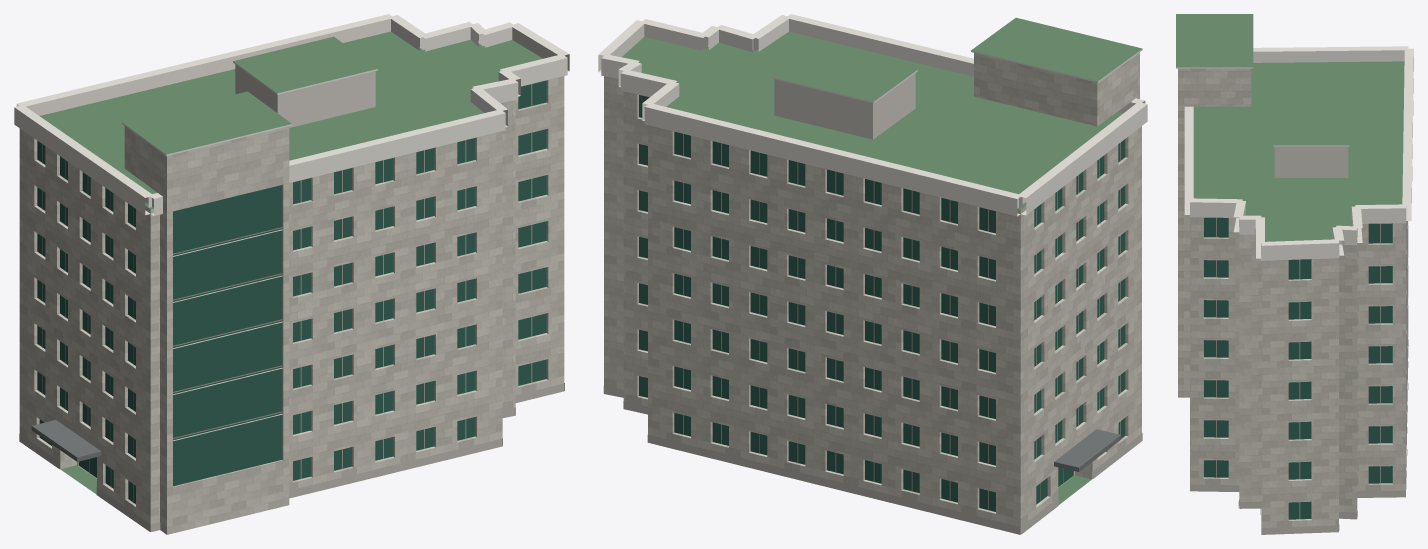
The picture shows the model from 3 angles, left to right: view 1: azimuth 30°, elevation 25°; view 2: azimuth 150°, elevation 25°; view 3: azimuth 270°, elevation 25°; orthographic projection. The views are drawn at different scales.
Visible parts, largest first — view 1: law1__wall, law1__glass, law1__roof, law1__trim, law1__wall2, law1__base, law1__frame, law1__canopy; view 2: law1__wall, law1__roof, law1__glass, law1__trim, law1__wall2, law1__base, law1__frame, law1__canopy; view 3: law1__wall, law1__roof, law1__trim, law1__glass, law1__wall2, law1__base, law1__frame.
Boxes of the visible parts, <box> form: law1__wall: <box>19,76,564,534</box>; law1__glass: <box>37,80,546,503</box>; law1__roof: <box>40,31,542,494</box>; law1__trim: <box>14,14,569,215</box>; law1__wall2: <box>235,64,375,127</box>; law1__base: <box>19,383,564,531</box>; law1__frame: <box>42,84,532,502</box>; law1__canopy: <box>31,420,101,461</box>; law1__wall: <box>604,52,1141,534</box>; law1__roof: <box>622,17,1142,504</box>; law1__glass: <box>639,95,1125,511</box>; law1__trim: <box>598,14,1147,216</box>; law1__wall2: <box>774,73,915,139</box>; law1__base: <box>603,386,1142,534</box>; law1__frame: <box>683,134,1120,510</box>; law1__canopy: <box>1054,429,1121,471</box>; law1__wall: <box>1178,68,1408,528</box>; law1__roof: <box>1176,14,1406,254</box>; law1__trim: <box>1176,46,1413,260</box>; law1__glass: <box>1204,217,1392,519</box>; law1__wall2: <box>1274,146,1348,177</box>; law1__base: <box>1190,339,1408,534</box>; law1__frame: <box>1216,217,1380,519</box>.
Bounding box in the file's own units: 39.94 × 29.8 × 19.4.
Materials: 9 (1 with a texture image).
